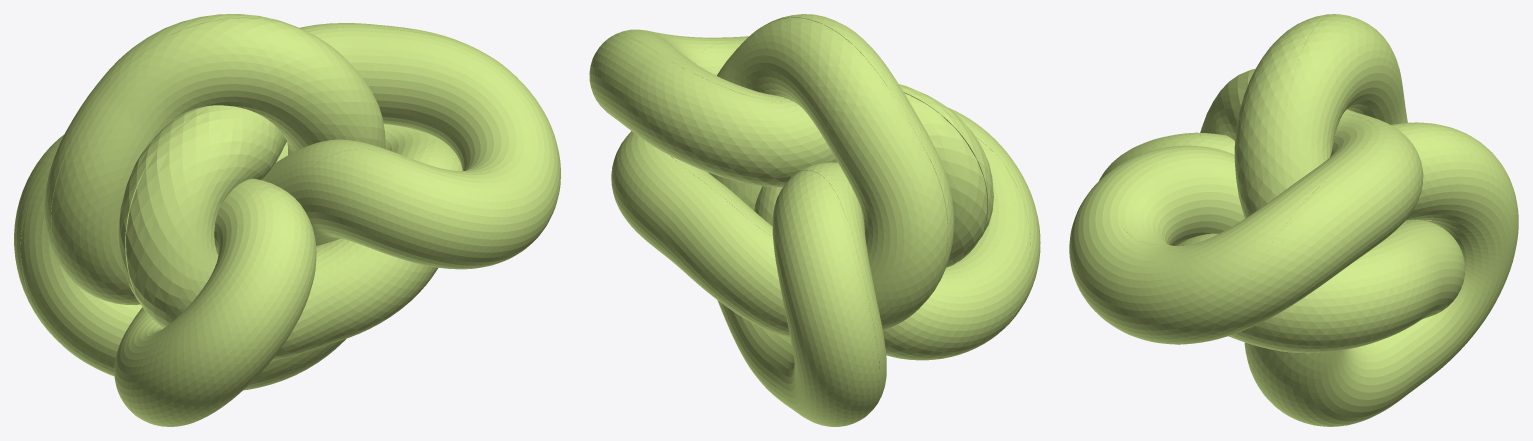
The model's file is gem_985001876.gltf.
3 renders of one model, left to right at view 1: azimuth 30°, elevation 25°; view 2: azimuth 150°, elevation 25°; view 3: azimuth 270°, elevation 25°, orthographic. The views are drawn at different scales.
Bounding box in the file's own units: 1.44 × 1.24 × 1.3.
